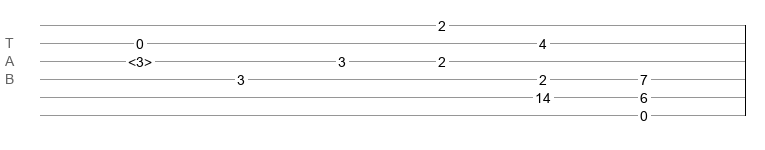0: (136, 36, 144, 46), (640, 108, 648, 118)
14: (535, 90, 551, 100)
2: (438, 54, 446, 64), (438, 18, 446, 28), (539, 72, 547, 82)
3: (237, 72, 245, 82), (338, 54, 346, 64)
4: (539, 36, 547, 46)
6: (640, 90, 648, 100)
7: (640, 72, 648, 82)
harmonic: (128, 54, 152, 64)
